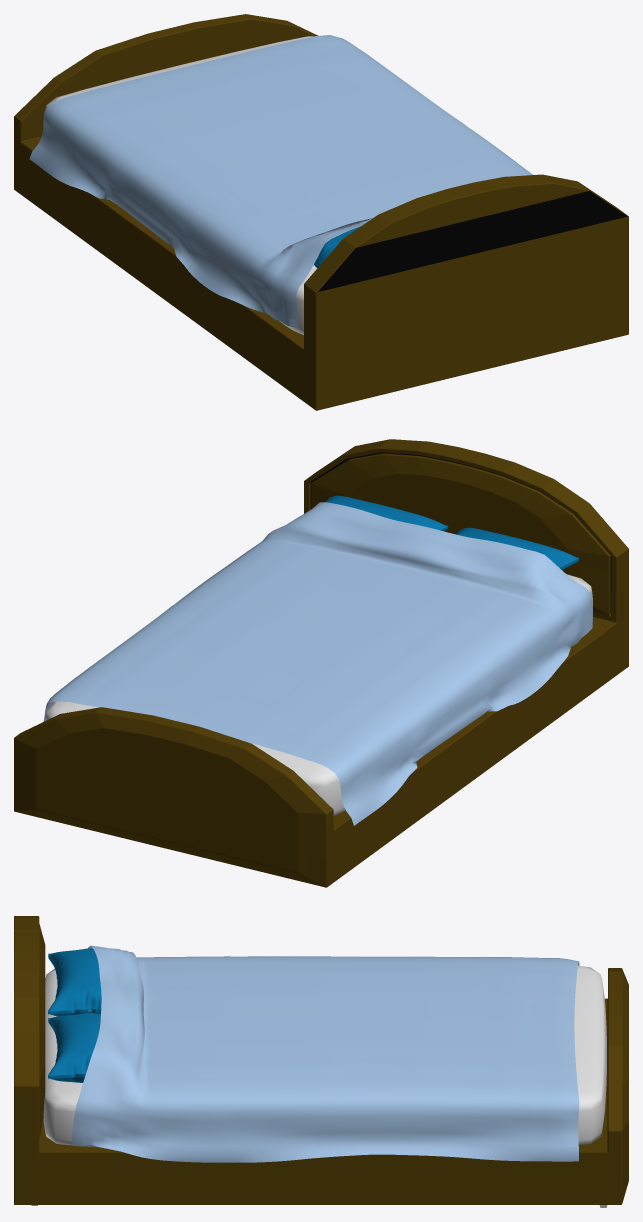
File: Bed v2.fbx
The picture shows the model from 3 angles, top to bottom: view 1: azimuth 30°, elevation 25°; view 2: azimuth 150°, elevation 25°; view 3: azimuth 270°, elevation 25°; orthographic projection.
Visible parts, largest first — view 1: pCube180, For_Bed_pPlane3, pCube181; view 2: For_Bed_pPlane3, pCube180, pCube181, pPlane2, For_Bed_pPlane1; view 3: For_Bed_pPlane3, pCube180, pCube181, pPlane2, For_Bed_pPlane1.
Part boxes in pixels (bbox=[...]): pCube180: bbox=[14, 14, 628, 410]; For_Bed_pPlane3: bbox=[29, 35, 532, 327]; pCube181: bbox=[45, 36, 317, 334]; For_Bed_pPlane3: bbox=[43, 502, 592, 825]; pCube180: bbox=[14, 439, 628, 887]; pCube181: bbox=[45, 574, 592, 815]; pPlane2: bbox=[456, 527, 579, 570]; For_Bed_pPlane1: bbox=[326, 495, 448, 531]; For_Bed_pPlane3: bbox=[72, 945, 579, 1162]; pCube180: bbox=[14, 916, 628, 1204]; pCube181: bbox=[43, 965, 606, 1146]; pPlane2: bbox=[48, 948, 101, 1016]; For_Bed_pPlane1: bbox=[48, 1012, 100, 1082].
Size of the model in its own units: 3.86 by 2.08 by 6.24.
